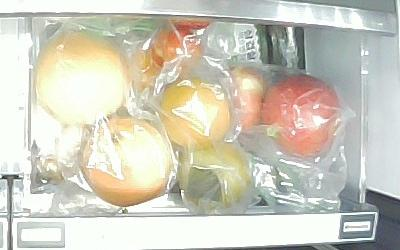apple_vinyl: (261, 74, 343, 157)
grapefruit_vinyl: (33, 31, 130, 124), (78, 117, 172, 206)
persimmon_vinyl: (177, 144, 253, 214), (160, 80, 231, 147)
prune_vinyl: (151, 29, 203, 79)
